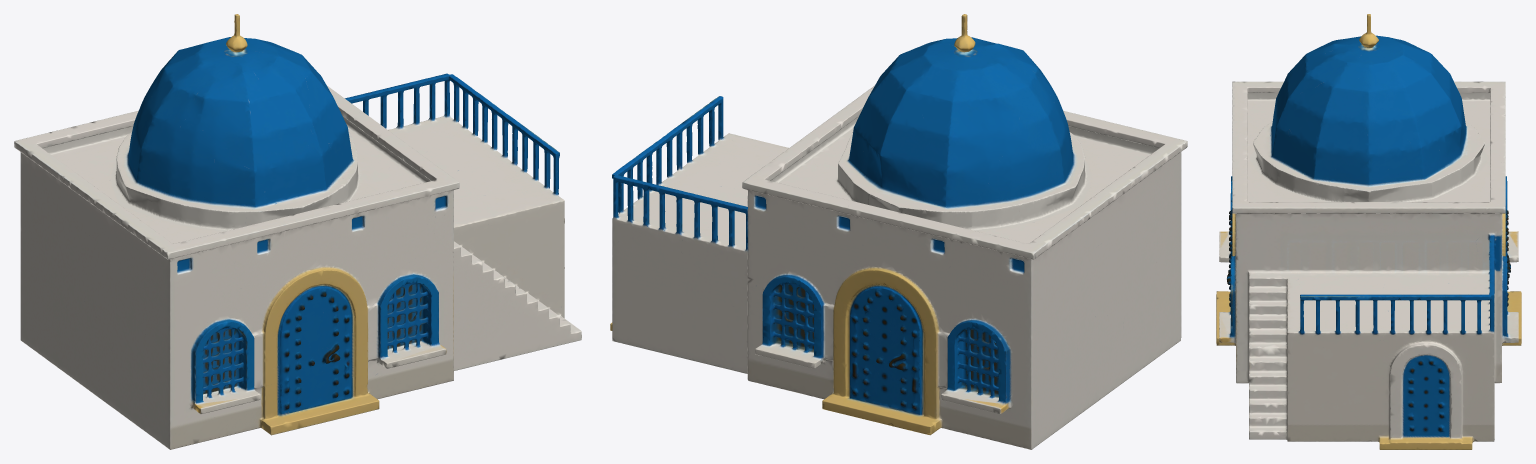
File: Meshy_AI_Azure_Dome_Villa_20261027_texture.fbx
3 renders of one model, left to right at view 1: azimuth 30°, elevation 25°; view 2: azimuth 150°, elevation 25°; view 3: azimuth 270°, elevation 25°, orthographic. The views are drawn at different scales.
Visible parts, largest first — view 1: Mesh_0; view 2: Mesh_0; view 3: Mesh_0.
Boxes of the visible parts, x1,y1,x2,y2 form: Mesh_0: (14, 14, 581, 449); Mesh_0: (610, 14, 1187, 449); Mesh_0: (1216, 14, 1521, 449).
Size of the model in its own units: 190 by 142 by 128.
Materials: 1 (1 with a texture image).
